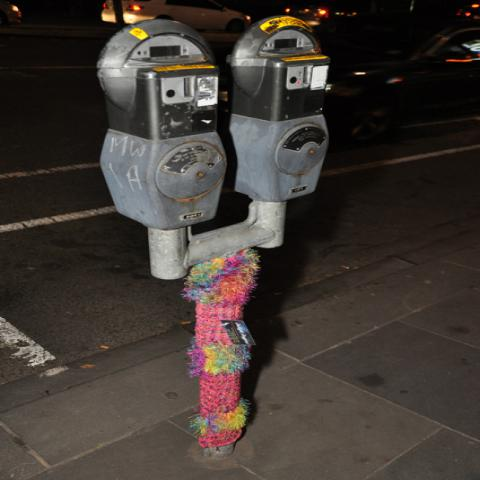car: (320, 17, 478, 147), (102, 1, 255, 34), (283, 0, 331, 20)
